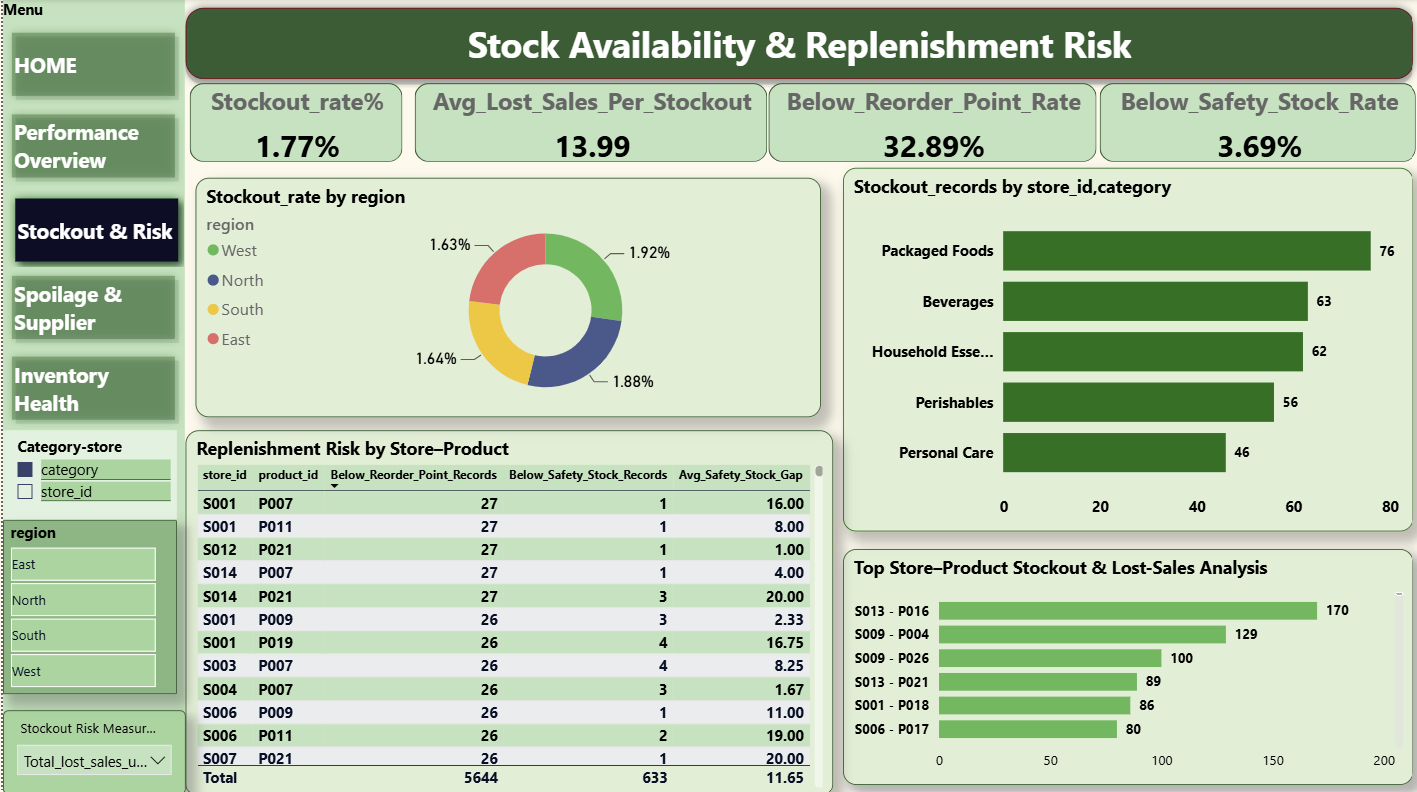

Layout of this report page (visuals, bound fields, positions):
{"tool":"powerbi","page":{"name":"Stockout & Risk","canvas":[1280,720],"ordinal":2},"visuals":[{"type":"clusteredBarChart","title":"Stockout_records by store_id,category","fields":{"Category":["inventory_ledger_cleaned.category"],"Y":["inventory_ledger_cleaned.Stockout_records"]},"box":[757.1,152.7,514,328.3],"z":0},{"type":"donutChart","title":"Stockout_rate by region","fields":{"Category":["Stores_table2.region"],"Y":["inventory_ledger_cleaned.Stockout_rate%"]},"box":[173,161.6,563.7,216.3],"z":1000},{"type":"tableEx","title":"Replenishment Risk by Store–Product","fields":{"Values":["inventory_ledger_cleaned.store_id","inventory_ledger_cleaned.product_id","inventory_ledger_cleaned.Below_Reorder_Point_Records","inventory_ledger_cleaned.Below_Safety_Stock_Records","inventory_ledger_cleaned.Avg_Safety_Stock_Gap"]},"box":[164.1,389.3,584,330.8],"z":2000},{"type":"clusteredBarChart","title":"Top Store–Product Stockout & Lost-Sales Analysis","fields":{"Y":["inventory_ledger_cleaned.Total_lost_sales_unit"],"Category":["inventory_ledger_cleaned.Store_Product"]},"box":[757.1,496.2,514,212.5],"z":3000},{"type":"shape","box":[156.5,0,1123.5,80.2],"z":4000},{"type":"cardVisual","fields":{"Data":["inventory_ledger_cleaned.Stockout_rate"]},"box":[163.9,71.5,202.1,81.3],"z":5000},{"type":"cardVisual","fields":{"Data":["inventory_ledger_cleaned.Avg_Lost_Sales_Per_Stockout"]},"box":[366.4,71.3,328.3,81.4],"z":6000},{"type":"cardVisual","fields":{"Data":["inventory_ledger_cleaned.Below_Reorder_Point_Rate"]},"box":[685.8,71.3,306.6,81.4],"z":7000},{"type":"cardVisual","fields":{"Data":["inventory_ledger_cleaned.Below_Safety_Stock_Rate"]},"box":[983.5,71.3,296.5,81.4],"z":8000},{"type":"shape","box":[0,0,164.1,718.9],"z":9000,"group":"g1"},{"type":"group","id":"g1","title":"Group 1","box":[0,0,164.1,718.9],"z":9501,"group":"g3"},{"type":"pageNavigator","title":"Menu","box":[0,0,163.9,389.4],"z":10000,"group":"g1"},{"type":"group","id":"g2","title":"Group 3","box":[0,0,164.1,718.9],"z":12000},{"type":"listSlicer","fields":{"Values":["Stores_table2.region"]},"box":[0,469.5,156.5,156.5],"z":12125},{"type":"slicer","fields":{"Values":["Category-store.Category-store"]},"box":[0,389.4,156.5,80.1],"z":12250},{"type":"slicer","fields":{"Values":["Stockout Risk Measure Selector.Stockout Risk Measure Selector"]},"box":[0,641.9,164.7,76.4],"z":12500},{"type":"group","id":"g3","title":"Group 2","box":[0,0,164.1,718.9],"z":13002,"group":"g2"}]}

Visuals, with their boxes on the page's 1280x720 design canvas (x1, y1, x2, y2). These are canvas units, not pixel positions in the 1417x792 screenshot, which may show the page scaled, cropped or inside an application window:
"Stockout_records by store_id,category" clusteredBarChart: box=[757, 153, 1271, 481]
"Stockout_rate by region" donutChart: box=[173, 162, 737, 378]
"Replenishment Risk by Store–Product" tableEx: box=[164, 389, 748, 720]
"Top Store–Product Stockout & Lost-Sales Analysis" clusteredBarChart: box=[757, 496, 1271, 709]
shape: box=[156, 0, 1280, 80]
cardVisual - inventory_ledger_cleaned.Stockout_rate: box=[164, 72, 366, 153]
cardVisual - inventory_ledger_cleaned.Avg_Lost_Sales_Per_Stockout: box=[366, 71, 695, 153]
cardVisual - inventory_ledger_cleaned.Below_Reorder_Point_Rate: box=[686, 71, 992, 153]
cardVisual - inventory_ledger_cleaned.Below_Safety_Stock_Rate: box=[984, 71, 1280, 153]
shape: box=[0, 0, 164, 719]
"Group 1" group: box=[0, 0, 164, 719]
"Menu" pageNavigator: box=[0, 0, 164, 389]
"Group 3" group: box=[0, 0, 164, 719]
listSlicer - Stores_table2.region: box=[0, 470, 156, 626]
slicer - Category-store.Category-store: box=[0, 389, 156, 470]
slicer - Stockout Risk Measure Selector.Stockout Risk Measure Selector: box=[0, 642, 165, 718]
"Group 2" group: box=[0, 0, 164, 719]
